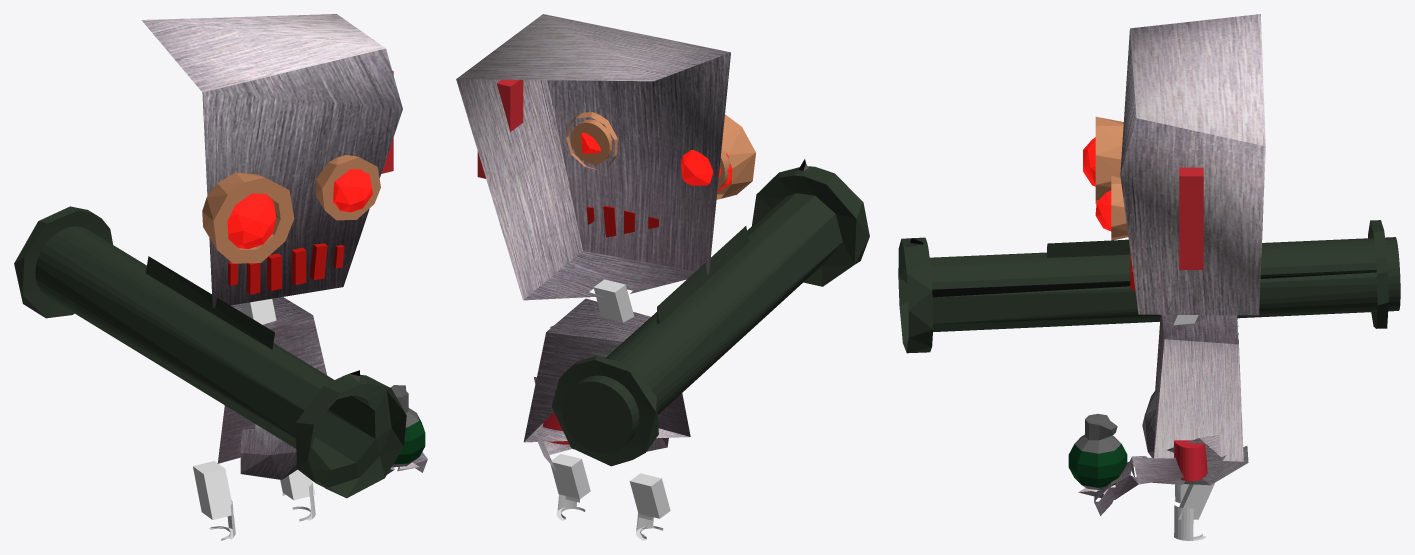
The model's file is RobotVida1.fbx.
3 renders of one model, left to right at view 1: azimuth 30°, elevation 25°; view 2: azimuth 150°, elevation 25°; view 3: azimuth 270°, elevation 25°, orthographic. The views are drawn at different scales.
Visible parts, largest first — view 1: BAZOOKA, kaf, Cylinder.006, Cube.001, Sphere, Sphere.001, Cylinder.007, Sphere.002, GRANADA, Cube.000, Cube.003, Cube.004 (+3 smaller); view 2: kaf, BAZOOKA, Cube.001, Cylinder.006, Cylinder.007, Cube.000, Cube.003, Cube.004, kadis.006, Sphere.001, Sphere; view 3: kaf, BAZOOKA, Cube.001, GRANADA, kadis.006, Cube.002, Sphere, Cylinder.006, Cylinder.003, Cylinder.007, Cube.003, Cylinder.
Part boxes in pixels (bbox=[...]): BAZOOKA: bbox=[14, 206, 406, 498]; kaf: bbox=[141, 14, 402, 308]; Cylinder.006: bbox=[202, 172, 294, 263]; Cube.001: bbox=[217, 297, 327, 463]; Sphere: bbox=[240, 424, 297, 479]; Sphere.001: bbox=[227, 193, 276, 248]; Cylinder.007: bbox=[315, 155, 380, 220]; Sphere.002: bbox=[333, 169, 372, 212]; GRANADA: bbox=[390, 385, 425, 467]; Cube.000: bbox=[193, 464, 300, 519]; Cube.003: bbox=[200, 461, 315, 518]; Cube.004: bbox=[241, 299, 276, 324]; kaf: bbox=[456, 14, 730, 300]; BAZOOKA: bbox=[552, 159, 869, 466]; Cube.001: bbox=[523, 298, 690, 442]; Cylinder.006: bbox=[716, 114, 755, 199]; Cylinder.007: bbox=[566, 112, 617, 169]; Cube.000: bbox=[564, 457, 670, 518]; Cube.003: bbox=[550, 454, 654, 520]; Cube.004: bbox=[593, 279, 634, 322]; kadis.006: bbox=[477, 79, 523, 178]; Sphere.001: bbox=[681, 150, 732, 191]; Sphere: bbox=[534, 431, 668, 470]; kaf: bbox=[1120, 14, 1265, 315]; BAZOOKA: bbox=[898, 220, 1400, 353]; Cube.001: bbox=[1154, 315, 1243, 461]; GRANADA: bbox=[1068, 413, 1127, 489]; kadis.006: bbox=[1179, 167, 1203, 269]; Cube.002: bbox=[1078, 456, 1185, 515]; Sphere: bbox=[1142, 389, 1248, 485]; Cylinder.006: bbox=[1095, 116, 1123, 203]; Cylinder.003: bbox=[1174, 440, 1207, 481]; Cylinder.007: bbox=[1111, 175, 1128, 240]; Cube.003: bbox=[1178, 483, 1214, 519]; Cylinder: bbox=[1173, 505, 1205, 540].
Size of the model in its own units: 202 by 351 by 342.
